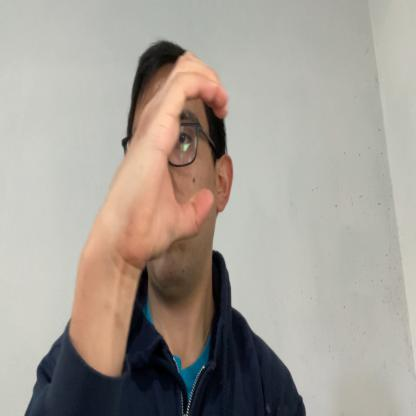C: (138, 51, 228, 252)
